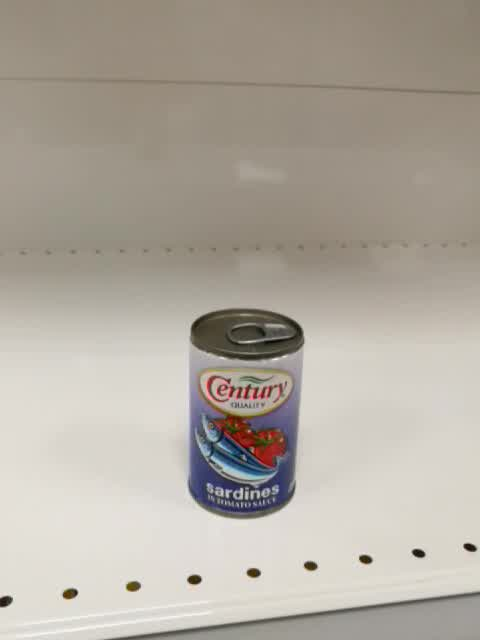sardine: (186, 305, 306, 521)
